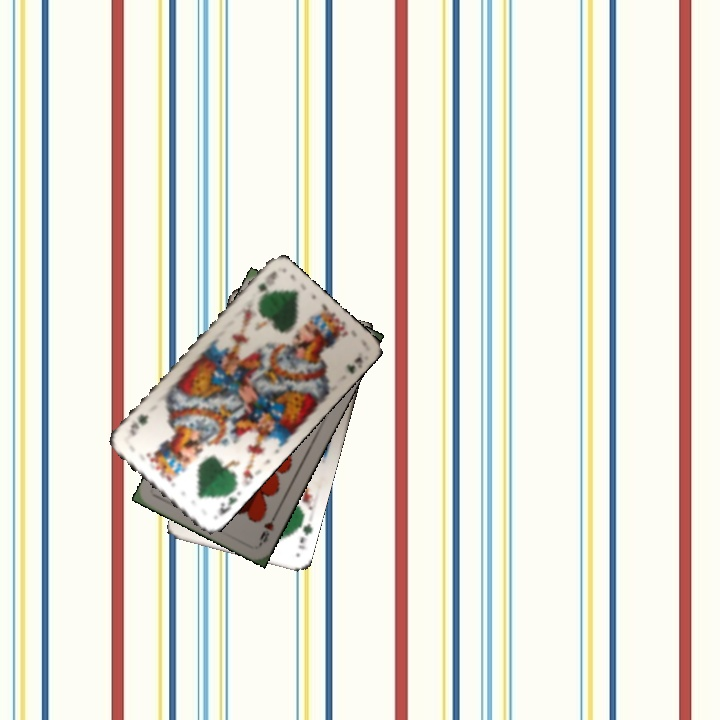GK: (215, 485, 240, 519), (253, 267, 280, 295), (294, 520, 315, 552)
H9: (255, 509, 280, 547)
